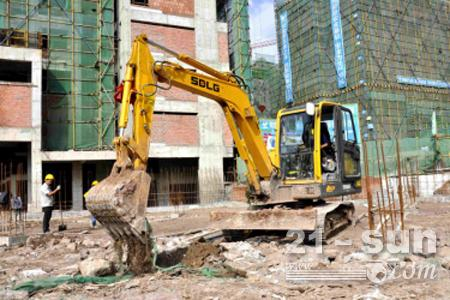excavator: (80, 30, 371, 272)
